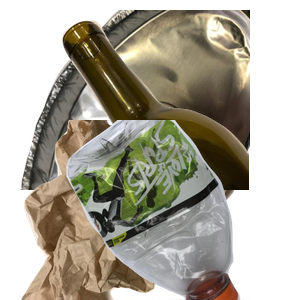glass: (60, 18, 300, 198)
metal: (18, 10, 258, 190)
plastic: (64, 120, 300, 300)
trash: (19, 120, 249, 300)
